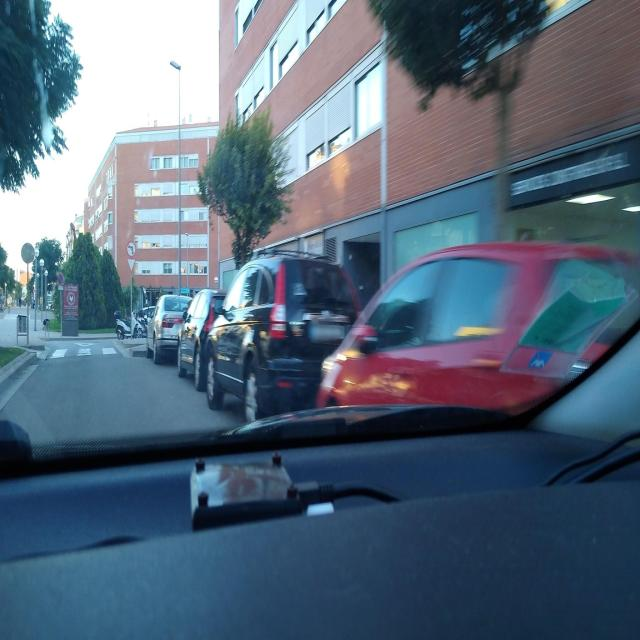forb_stopping: (57, 273, 64, 286)
